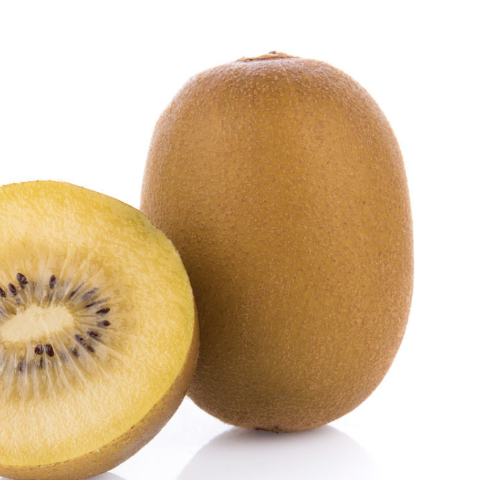kiwi: (94, 36, 466, 476)
